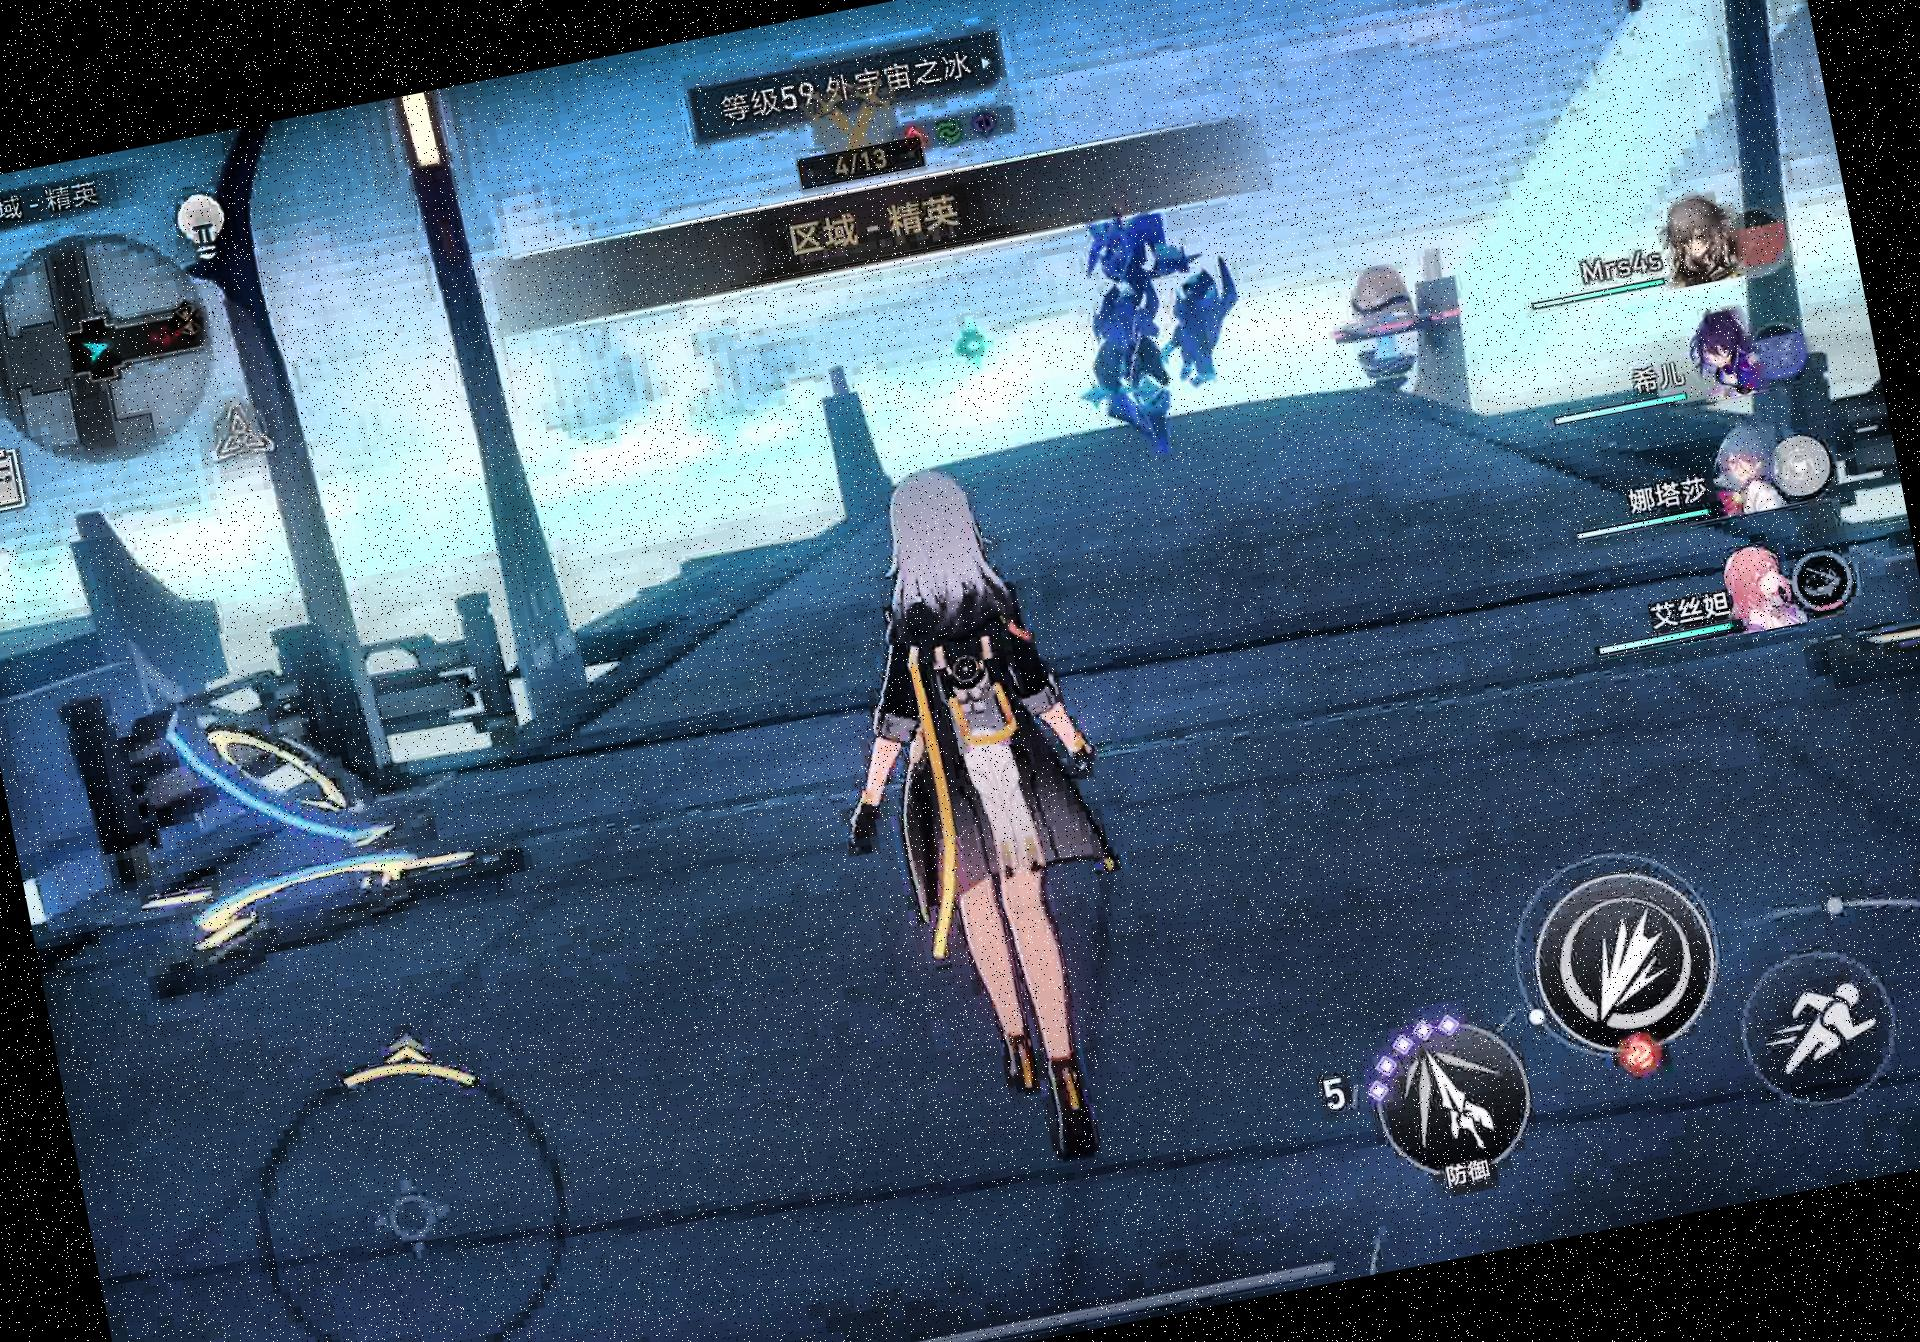Enemy: (1058, 190, 1262, 454)
SafeDoor: (945, 314, 1002, 381)
Self: (791, 439, 1196, 1212)
